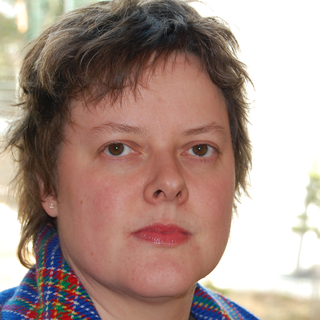eye: (174, 134, 221, 167), (94, 135, 144, 164)
